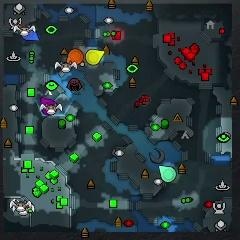p1: (21, 29, 40, 41)
p2: (160, 166, 176, 183)
p3: (41, 97, 57, 115)
p4: (86, 50, 105, 65)
p5: (67, 49, 83, 64)
